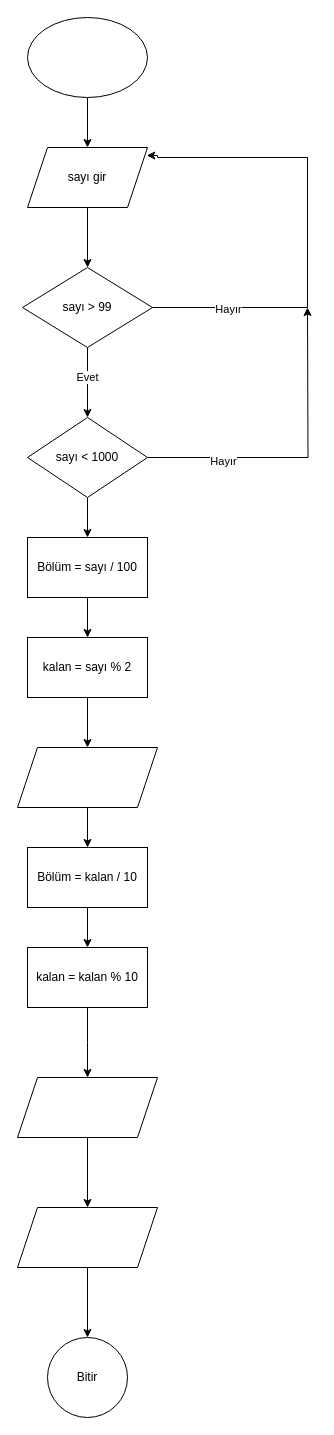
Image size: 334x1435. Some labels were removed from this diagram. The shapes that lost their labels are listed below. From the top down, each one's box as (x1, y1, x2, y2) in pixels, then its label:
(26, 16, 148, 98): Başla
(16, 746, 158, 808): yüzlük adeti: Bölüm
(16, 1076, 158, 1138): onluk adeti: Bölüm
(16, 1206, 158, 1268): birlik adeti: kalan
